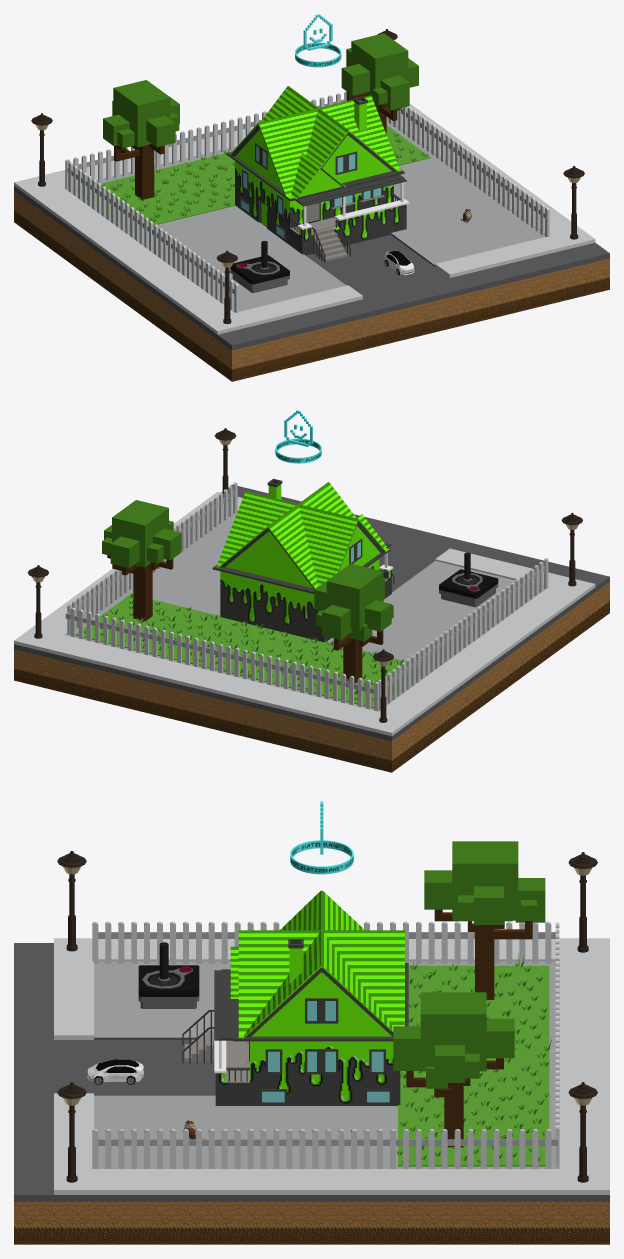
3 renders of one model, top to bottom at view 1: azimuth 30°, elevation 25°; view 2: azimuth 150°, elevation 25°; view 3: azimuth 270°, elevation 25°, orthographic. The views are drawn at different scales.
Visible parts, largest first — view 1: Cube.004, Cube.754, OBJRANDOM_JOYSTICK, TYPE_PREMIUM, VEHICLES_TESLA; view 2: Cube.004, Cube.754, OBJRANDOM_JOYSTICK, TYPE_PREMIUM; view 3: Cube.004, Cube.754, OBJRANDOM_JOYSTICK, TYPE_PREMIUM, VEHICLES_TESLA.
Part boxes in pixels (x1,y1,x2,y2): Cube.004: (14,29,609,381); Cube.754: (226,86,409,262); OBJRANDOM_JOYSTICK: (230,241,289,293); TYPE_PREMIUM: (295,14,341,67); VEHICLES_TESLA: (384,250,415,275); Cube.004: (14,428,609,772); Cube.754: (212,478,394,642); OBJRANDOM_JOYSTICK: (439,552,498,607); TYPE_PREMIUM: (275,410,321,463); Cube.004: (14,841,609,1244); Cube.754: (182,890,408,1105); OBJRANDOM_JOYSTICK: (138,942,199,1008); TYPE_PREMIUM: (290,801,353,874); VEHICLES_TESLA: (87,1059,143,1084).
Size of the model in its own units: 4000 by 2466 by 4000.
38 materials, 5 textured.
